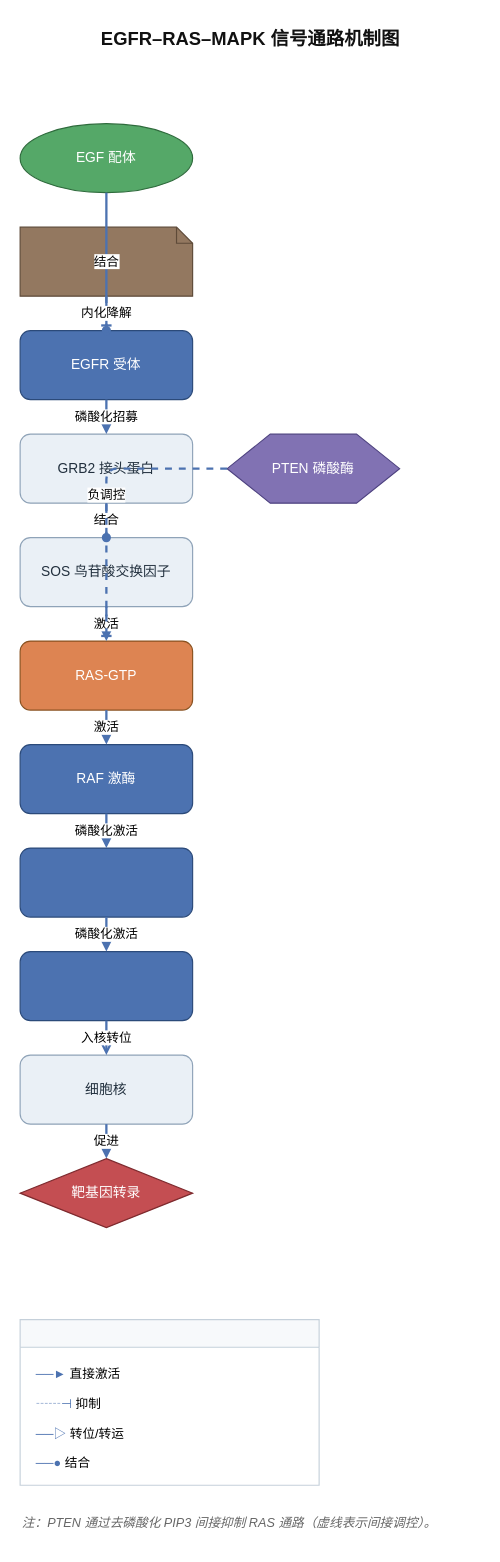
Some shapes in this 500 by 1562 pixel diagram are drawn without their labels. Here are the shapes that lost their labels. From the top down, the box of each, then its label:
(19, 226, 193, 296): 受体降解
(19, 847, 193, 917): MEK1/2
(19, 950, 193, 1021): ERK1/2
(19, 1318, 319, 1485): 图例 Legend
